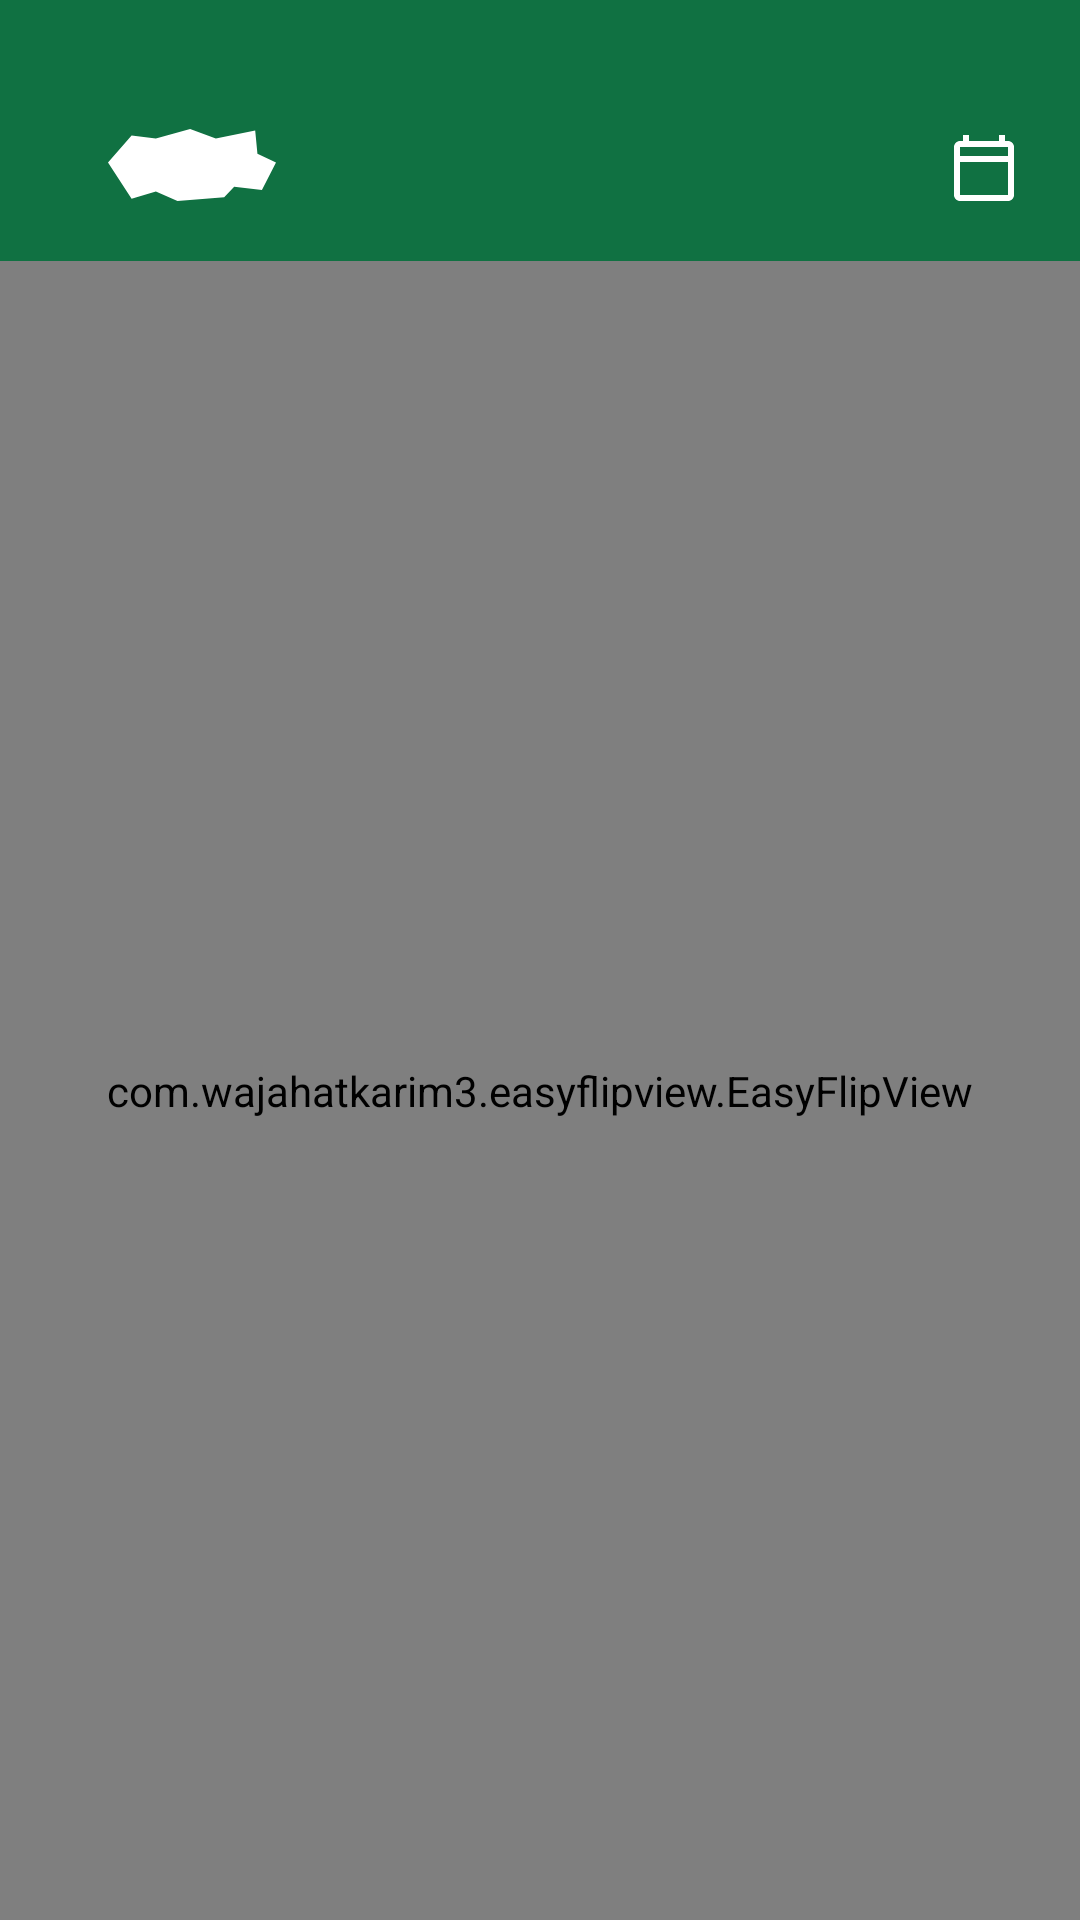

Icon click points for this 1080 x 1920 phone screenshot, format (x=x, y=y):
calendar: (x=984, y=168)
stone: (x=192, y=165)
